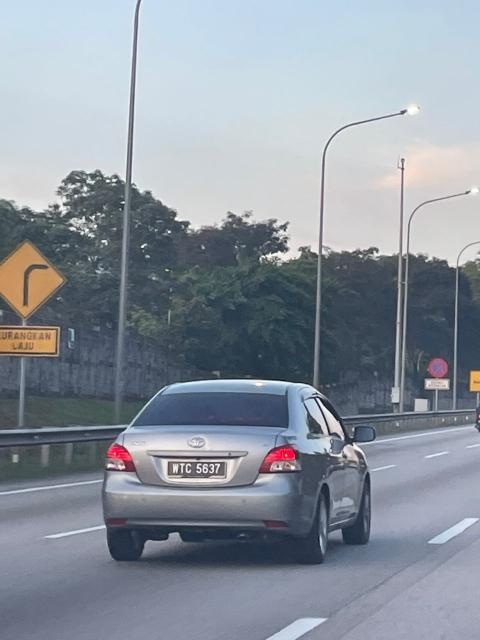License_Plate: (169, 459, 225, 479)
car: (100, 380, 381, 565)
